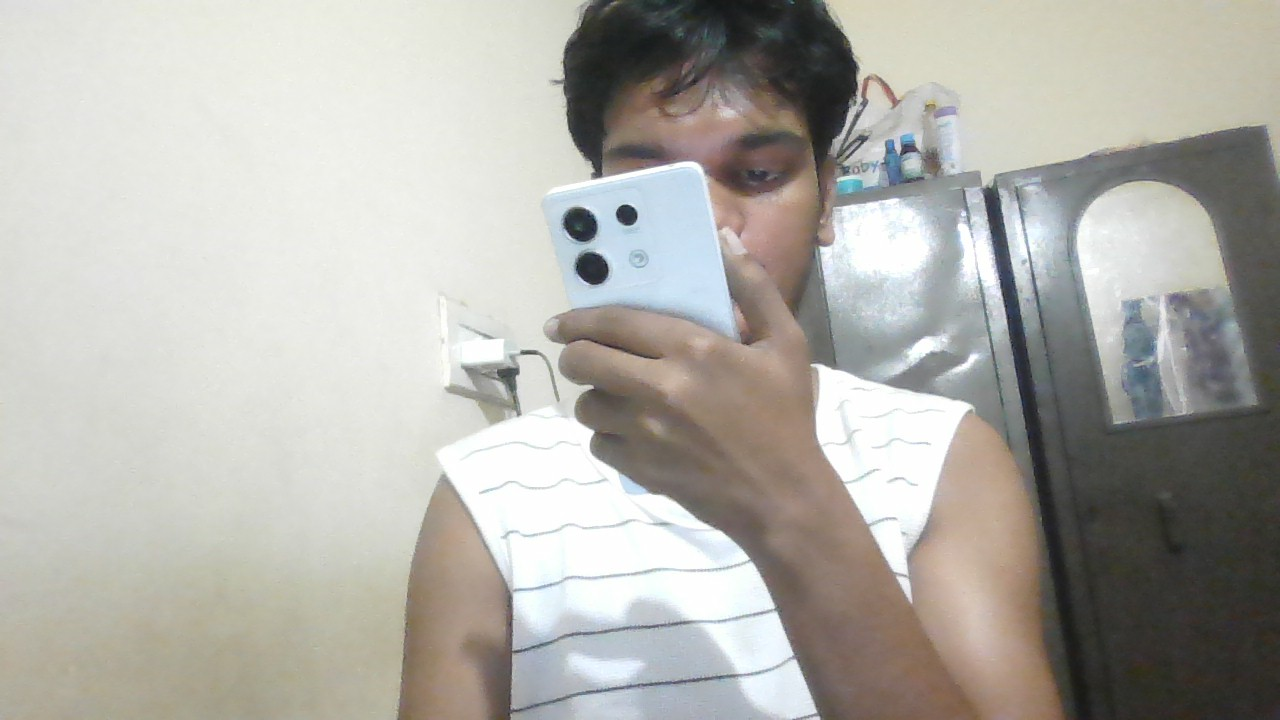phone: (551, 179, 712, 311)
